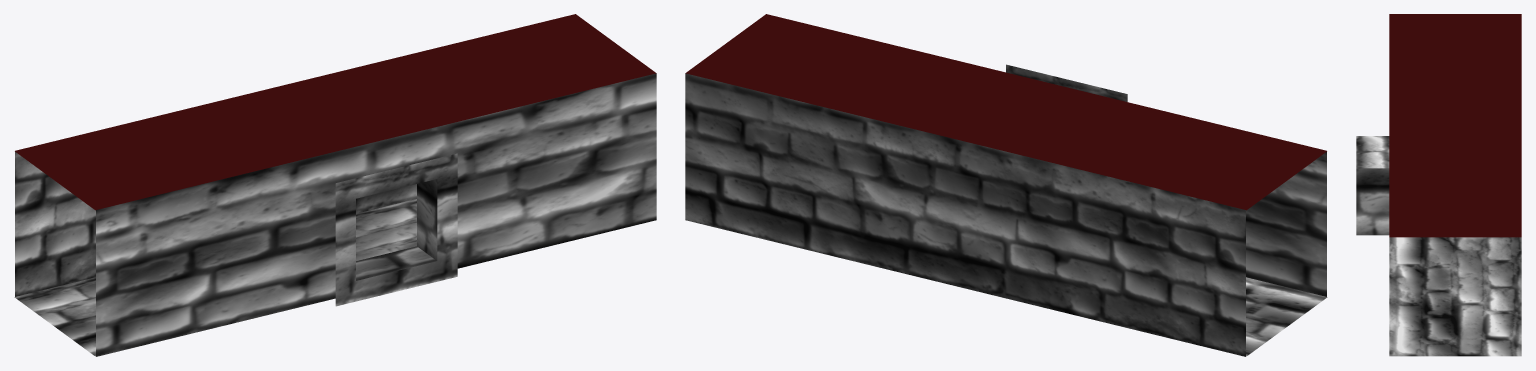
Rendered from zamek_labirynt_I3_window.fbx.
3 renders of one model, left to right at view 1: azimuth 30°, elevation 25°; view 2: azimuth 150°, elevation 25°; view 3: azimuth 270°, elevation 25°, orthographic. The views are drawn at different scales.
Visible parts, largest first — view 1: Plane.133; view 2: Plane.133; view 3: Plane.133.
Boxes of the visible parts, x1,y1,x2,y2 form: Plane.133: (14,14,656,356); Plane.133: (685,14,1327,356); Plane.133: (1356,14,1521,356).
Bounding box in the file's own units: 1600 × 400 × 500.
2 materials, 1 textured.
